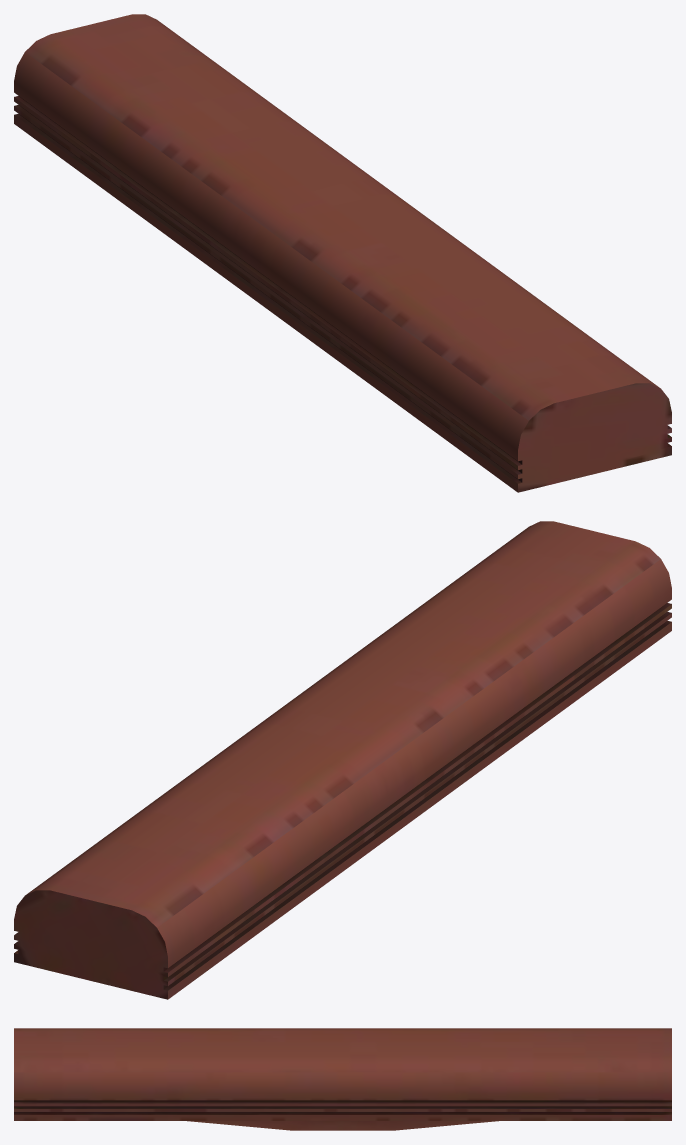
3 renders of one model, top to bottom at view 1: azimuth 30°, elevation 25°; view 2: azimuth 150°, elevation 25°; view 3: azimuth 270°, elevation 25°, orthographic. The views are drawn at different scales.
Visible parts, largest first — view 1: body0_model0_lod0_mesh0; view 2: body0_model0_lod0_mesh0; view 3: body0_model0_lod0_mesh0.
Boxes of the visible parts, box(x1,y1,x2,y2) form: body0_model0_lod0_mesh0: box(14, 14, 671, 492); body0_model0_lod0_mesh0: box(14, 521, 671, 999); body0_model0_lod0_mesh0: box(14, 1028, 671, 1130).
Bounding box in the file's own units: 35.98 × 26 × 204.
1 material, 1 textured.
